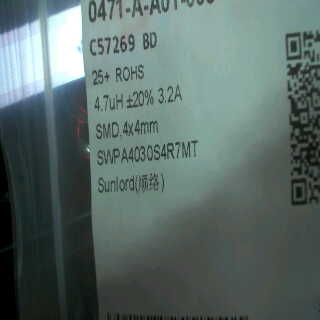4.7uH: (87, 88, 125, 114)
